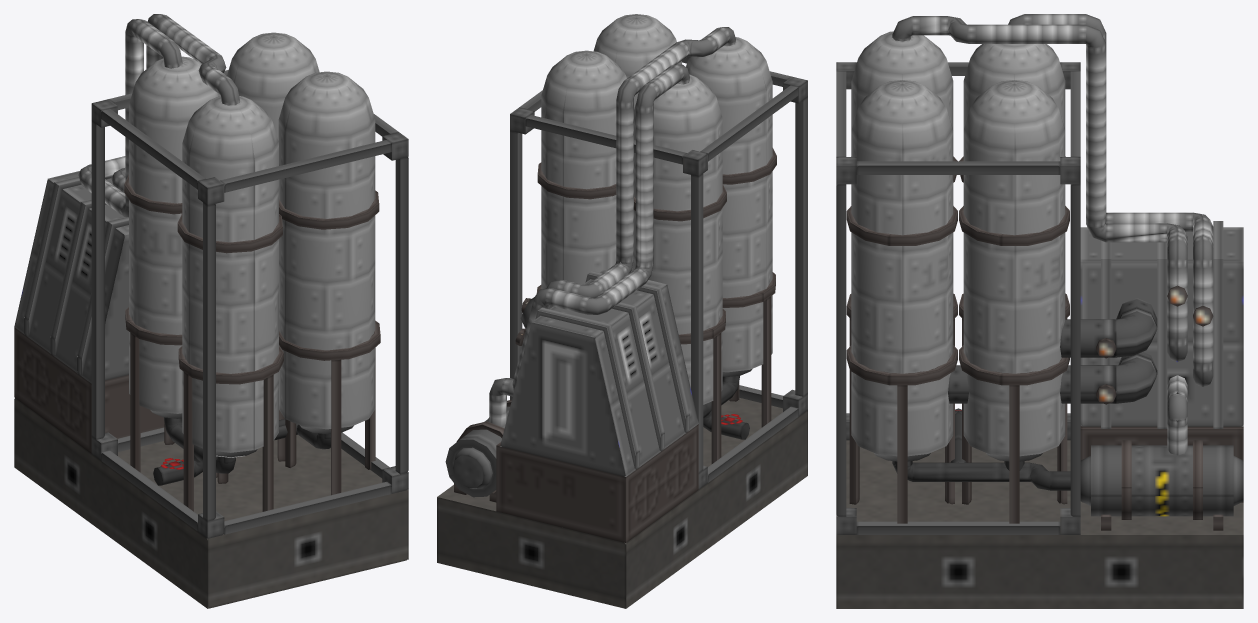
Rendered from catalytic_reformer.obj.
3 views of the same model, side by side, from view 1: azimuth 30°, elevation 25°; view 2: azimuth 150°, elevation 25°; view 3: azimuth 270°, elevation 25° (orthographic). The views are drawn at different scales.
Visible parts, largest first — view 1: Cylinder.002; view 2: Cylinder.002; view 3: Cylinder.002.
Part boxes in pixels (bbox=[...]): Cylinder.002: bbox=[14, 14, 408, 608]; Cylinder.002: bbox=[437, 14, 807, 608]; Cylinder.002: bbox=[836, 14, 1243, 608].
Size of the model in its own units: 3 by 7 by 5.
